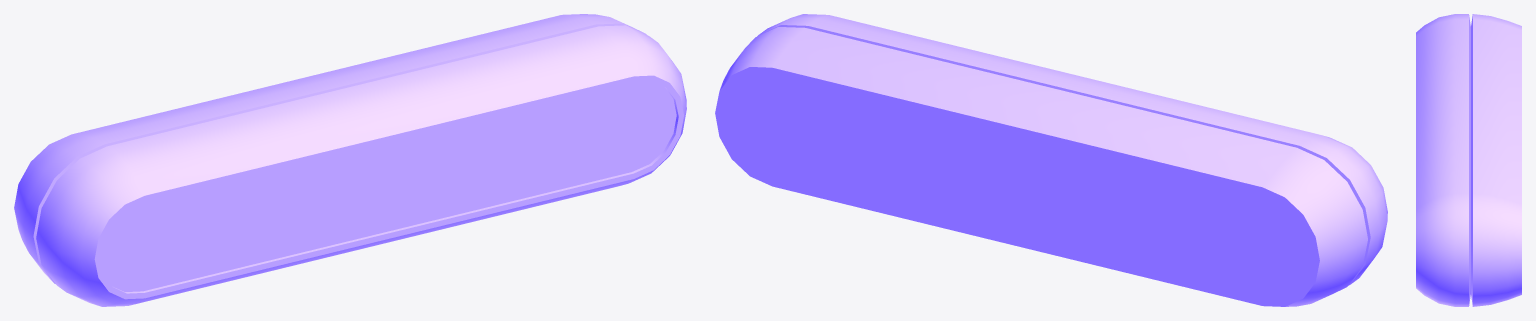
File: realsense.fbx
3 renders of one model, left to right at view 1: azimuth 30°, elevation 25°; view 2: azimuth 150°, elevation 25°; view 3: azimuth 270°, elevation 25°, orthographic. The views are drawn at different scales.
Parts seen in each view (by area): view 1: realsense; view 2: realsense; view 3: realsense.
Boxes of the visible parts, <box> form: realsense: <box>14,14,686,306</box>; realsense: <box>715,14,1387,306</box>; realsense: <box>1416,14,1521,306</box>.
Bounding box in the file's own units: 12.46 × 2.8 × 2.48.
